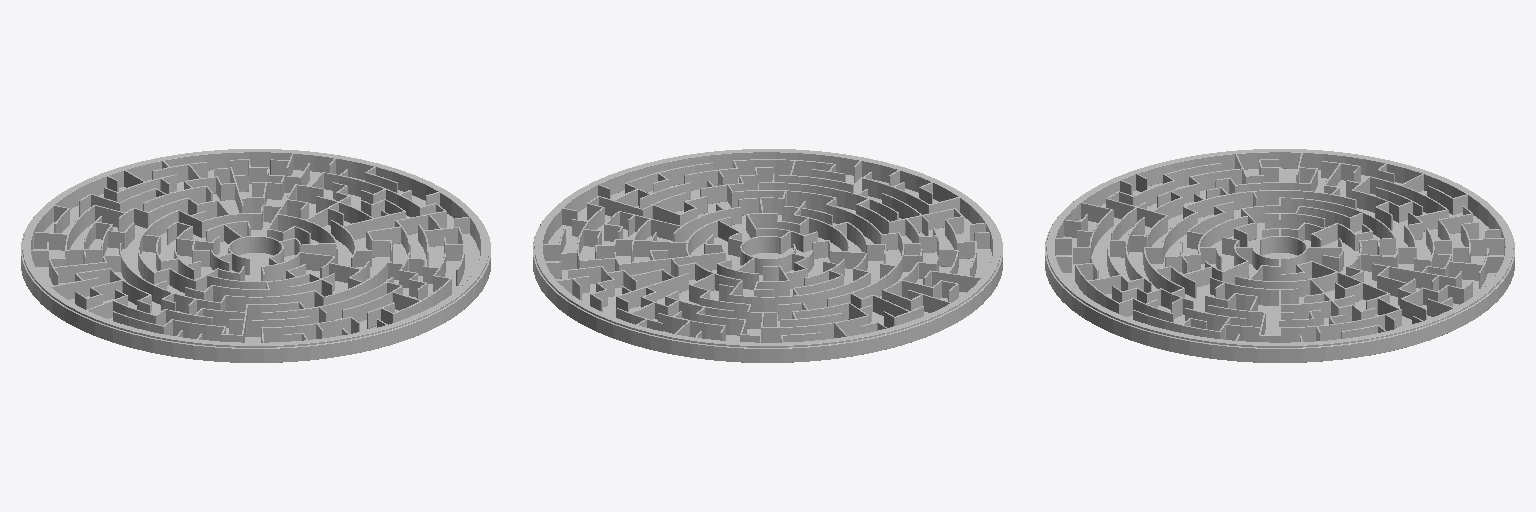
File: maze_translated.obj
3 views of the same model, side by side, from view 1: azimuth 30°, elevation 25°; view 2: azimuth 150°, elevation 25°; view 3: azimuth 270°, elevation 25° (orthographic).
Visible parts, largest first — view 1: maze:Mesh; view 2: maze:Mesh; view 3: maze:Mesh.
Part boxes in pixels (bbox=[...]): maze:Mesh: bbox=[21, 149, 490, 362]; maze:Mesh: bbox=[533, 149, 1002, 362]; maze:Mesh: bbox=[1045, 149, 1514, 362].
Bounding box in the file's own units: 9.98 × 0.403 × 9.98.